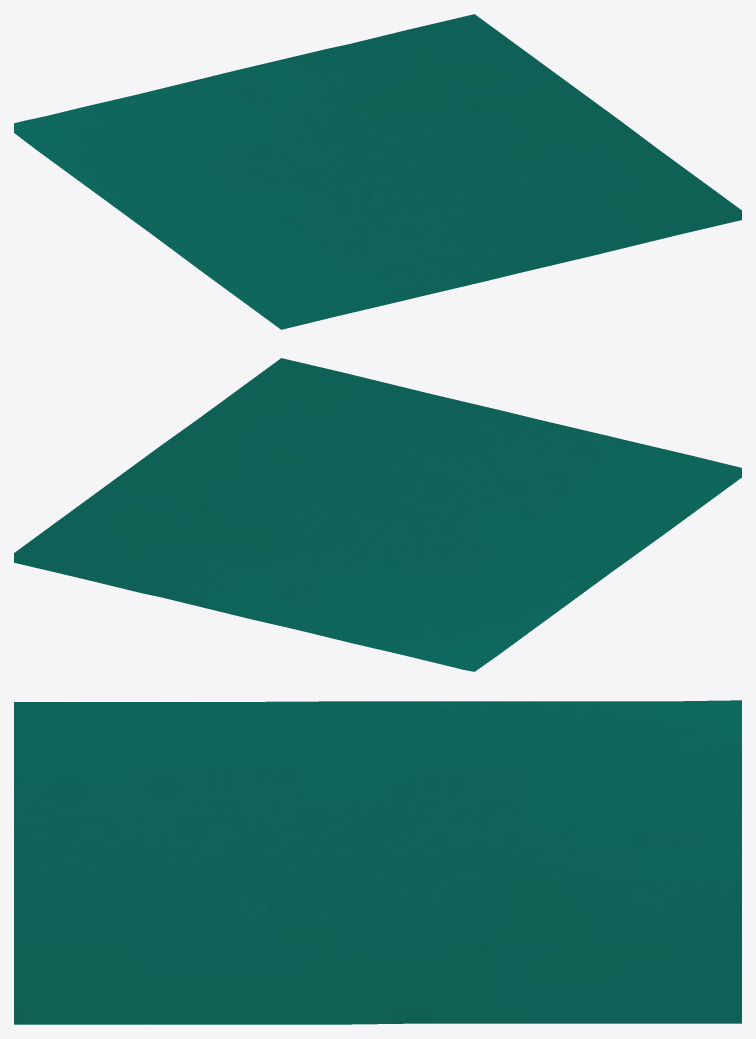
File: z20-167555-405168-h0-yup-uvflip-v3-world.glb
3 renders of one model, top to bottom at view 1: azimuth 30°, elevation 25°; view 2: azimuth 150°, elevation 25°; view 3: azimuth 270°, elevation 25°, orthographic. The views are drawn at different scales.
Size of the model in its own units: 30.16 by 0.84 by 30.32.
Materials: 1 (1 with a texture image).
